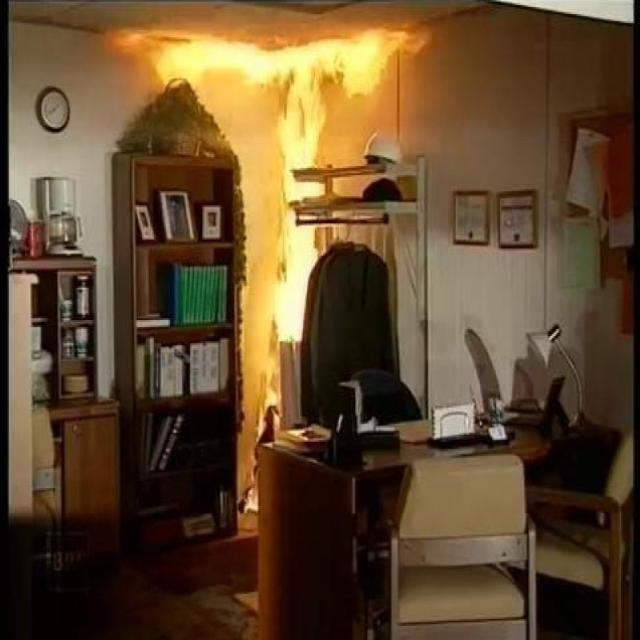smoke: (125, 24, 432, 105), (270, 104, 330, 341)
